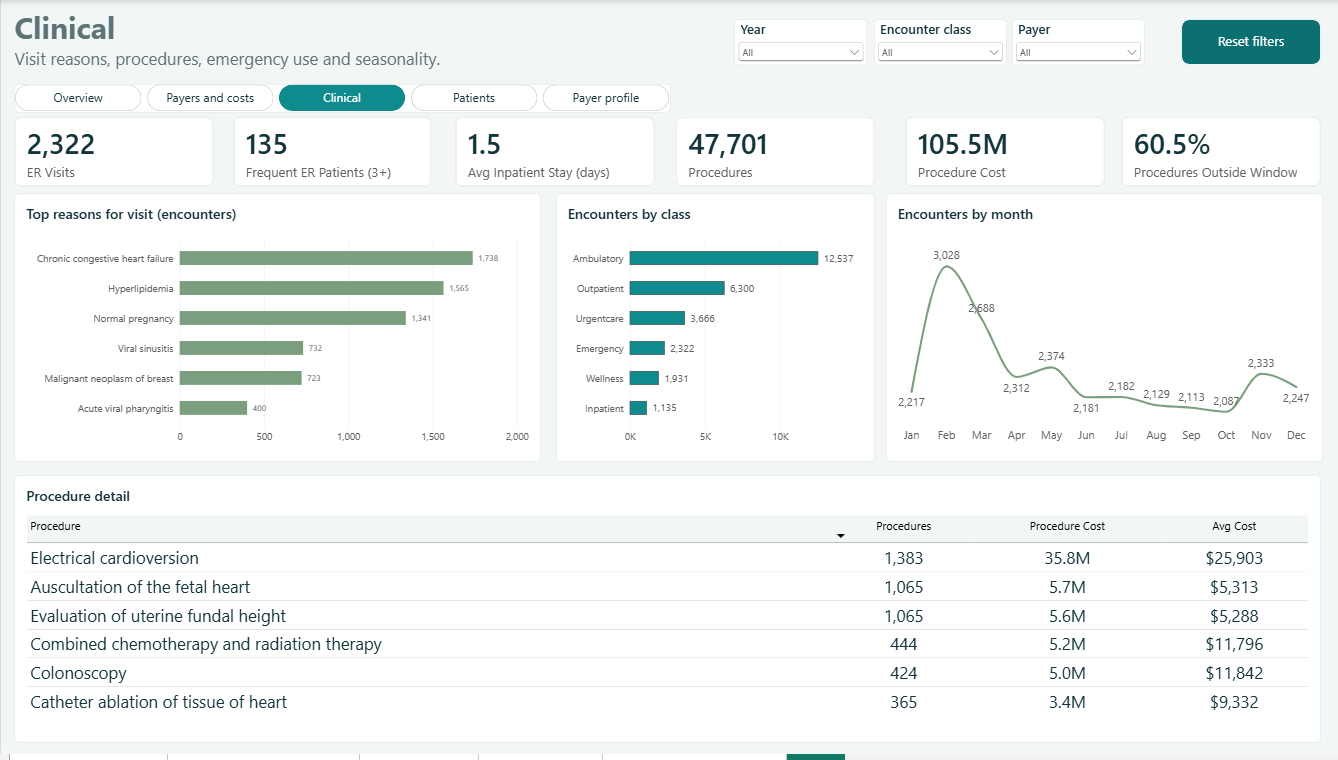

The page's visual inventory and layout, read from the dashboard file:
{"tool":"powerbi","page":{"name":"Clinical","canvas":[1920,1080],"ordinal":2},"visuals":[{"type":"cardVisual","fields":{"Data":["_Measures.ER Visits (card)"]},"box":[19.1,167,285,100],"z":0},{"type":"cardVisual","fields":{"Data":["_Measures.Frequent ER Patients"]},"box":[334,167,283.9,100],"z":1000},{"type":"cardVisual","fields":{"Data":["_Measures.Avg Inpatient Stay (days)"]},"box":[651.4,167,285,100],"z":2000},{"type":"cardVisual","fields":{"Data":["_Measures.Procedures (card)"]},"box":[966.3,167,285,100],"z":3000},{"type":"cardVisual","fields":{"Data":["_Measures.Procedure Cost"]},"box":[1295.6,167,285,100],"z":4000},{"type":"cardVisual","fields":{"Data":["_Measures.Procedures Outside Window %"]},"box":[1605.7,167,285,100],"z":5000},{"type":"barChart","title":"Top reasons for visit (encounters)","fields":{"Category":["FactEncounters.ReasonDescription"],"Y":["_Measures.Total Encounters"]},"box":[19.1,276.8,753.9,384.1],"z":6000},{"type":"barChart","title":"Encounters by class","fields":{"Category":["FactEncounters.EncounterClass"],"Y":["_Measures.Total Encounters"]},"box":[794.5,276.8,455.7,384.1],"z":7000},{"type":"lineChart","title":"Encounters by month","fields":{"Category":["DimDate.MonthName"],"Y":["_Measures.Total Encounters"]},"box":[1266.9,276.8,625.1,384.1],"z":8000},{"type":"textbox","box":[19.1,0,1872.9,119.3],"z":9000},{"type":"tableEx","title":"Procedure detail","fields":{"Values":["FactProcedures.ProcedureName","_Measures.Procedures","_Measures.Procedure Cost","_Measures.Avg Procedure Cost"]},"box":[19.8,680.3,1870.9,382.7],"z":13000},{"type":"pageNavigator","box":[19.1,119.3,940.1,40.6],"z":14000},{"type":"slicer","title":"Year","fields":{"Values":["DimDate.Year"]},"box":[1049.8,28.6,190,65],"z":14001},{"type":"slicer","title":"Year","fields":{"Values":["DimPayer.PayerName"]},"box":[1448.3,28.6,190,65],"z":14002},{"type":"slicer","title":"Year","fields":{"Values":["FactEncounters.EncounterClass"]},"box":[1250.2,28.6,190,65],"z":14003},{"type":"actionButton","box":[1691.6,28.6,200,65],"z":14004}]}

Visuals, with their boxes in screenshot pixels (x1, y1, x2, y2), scaled from the page's 1920x1080 canvas onto the 1338x760 screenshot:
cardVisual - _Measures.ER Visits (card): detection(13, 118, 212, 188)
cardVisual - _Measures.Frequent ER Patients: detection(233, 118, 431, 188)
cardVisual - _Measures.Avg Inpatient Stay (days): detection(454, 118, 653, 188)
cardVisual - _Measures.Procedures (card): detection(673, 118, 872, 188)
cardVisual - _Measures.Procedure Cost: detection(903, 118, 1101, 188)
cardVisual - _Measures.Procedures Outside Window %: detection(1119, 118, 1318, 188)
"Top reasons for visit (encounters)" barChart: detection(13, 195, 539, 465)
"Encounters by class" barChart: detection(554, 195, 871, 465)
"Encounters by month" lineChart: detection(883, 195, 1318, 465)
textbox: detection(13, 0, 1318, 84)
"Procedure detail" tableEx: detection(14, 479, 1318, 748)
pageNavigator: detection(13, 84, 668, 113)
"Year" slicer: detection(732, 20, 864, 66)
"Year" slicer: detection(1009, 20, 1142, 66)
"Year" slicer: detection(871, 20, 1004, 66)
actionButton: detection(1179, 20, 1318, 66)
